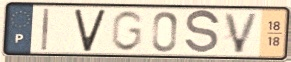0: (151, 10, 180, 54)
G: (109, 9, 146, 53)
I: (39, 7, 51, 52)
S: (183, 8, 223, 57)
V: (222, 11, 262, 55), (73, 8, 108, 53)
